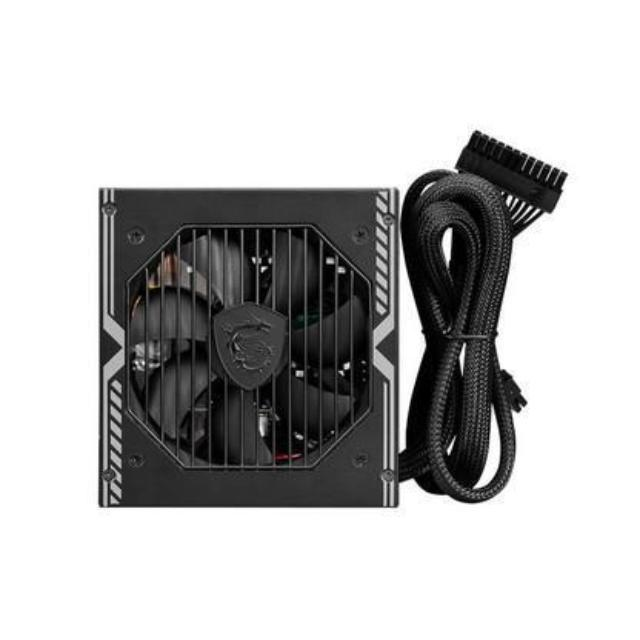PSU: (59, 162, 454, 542)
